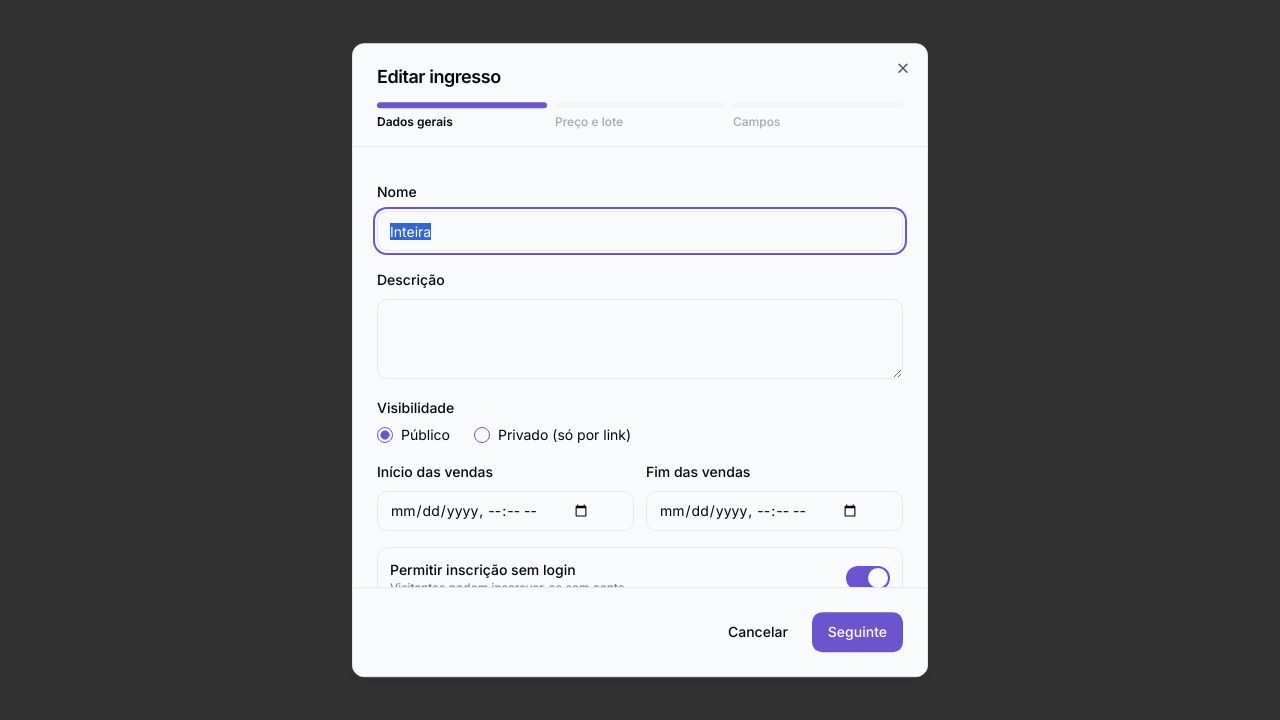
Test: TicketTypeWizardDialog › passo 3 mostra subtítulo 'Campos do ingresso' e ícone de informação em campo personalizado
The width and height of the screenshot is (1280, 720).
Expected: the field labelled "Nome" holds "Inteira", [377,211,903,251]
Click the button "Seguinte". click: (857,632)
box: [812,612,903,652]
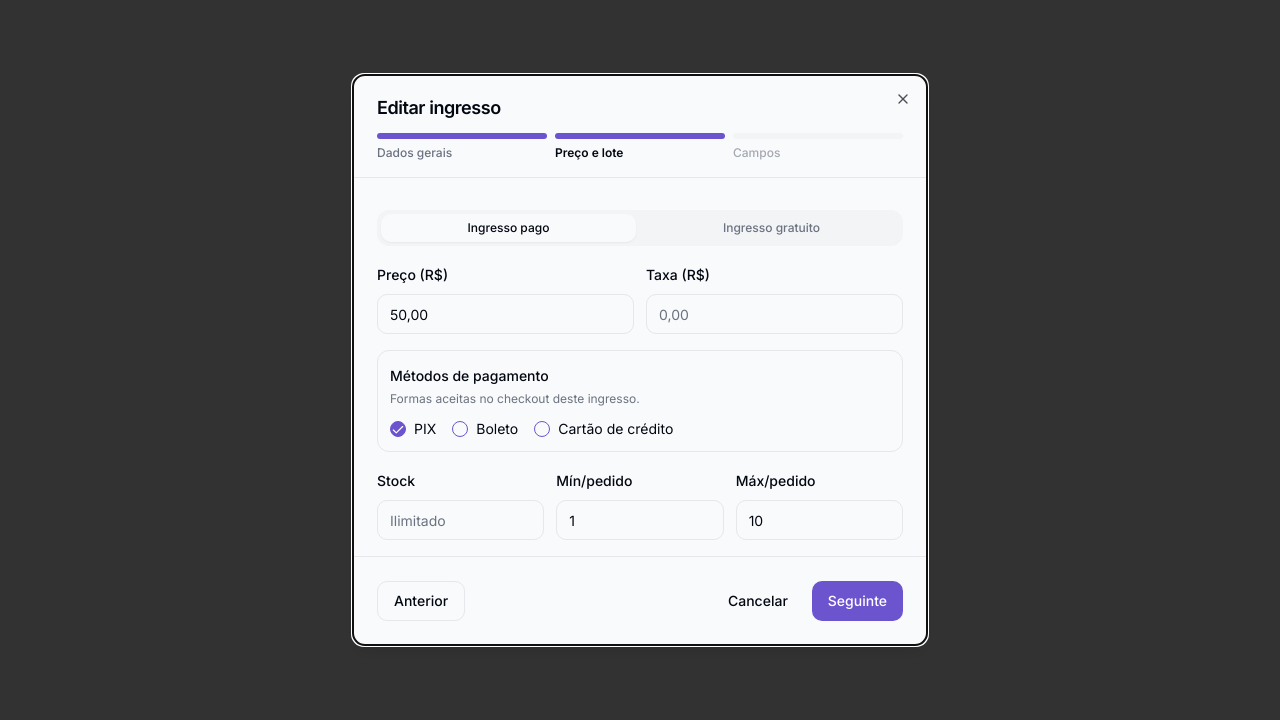
Click the button "Seguinte". click: (857,601)
box: [812,581,903,621]
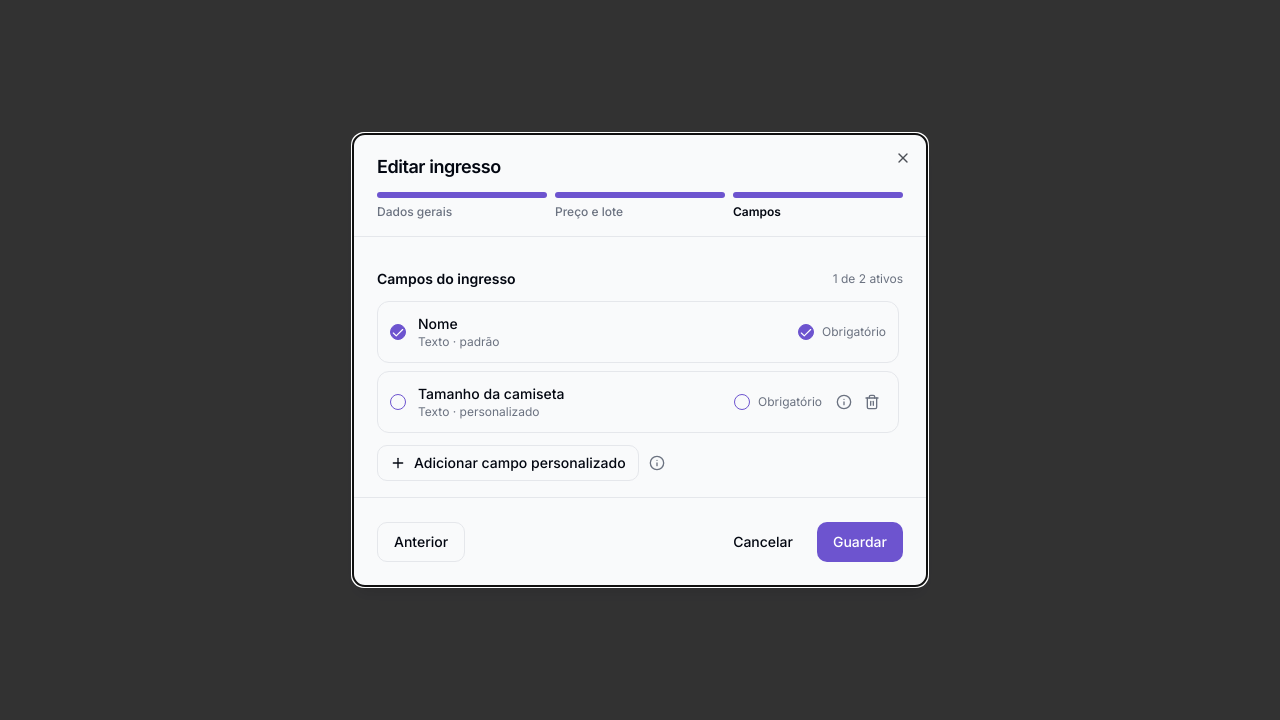
Expected: the heading "Campos do ingresso" is shown, [377,269,516,289]
Expected: the button named "Informações sobre Tamanho da camiseta" is shown, [834,392,854,412]
